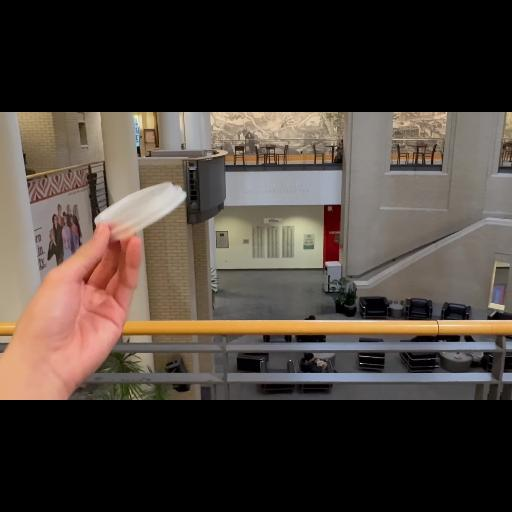lp_cup_lids: (96, 182, 188, 240)
